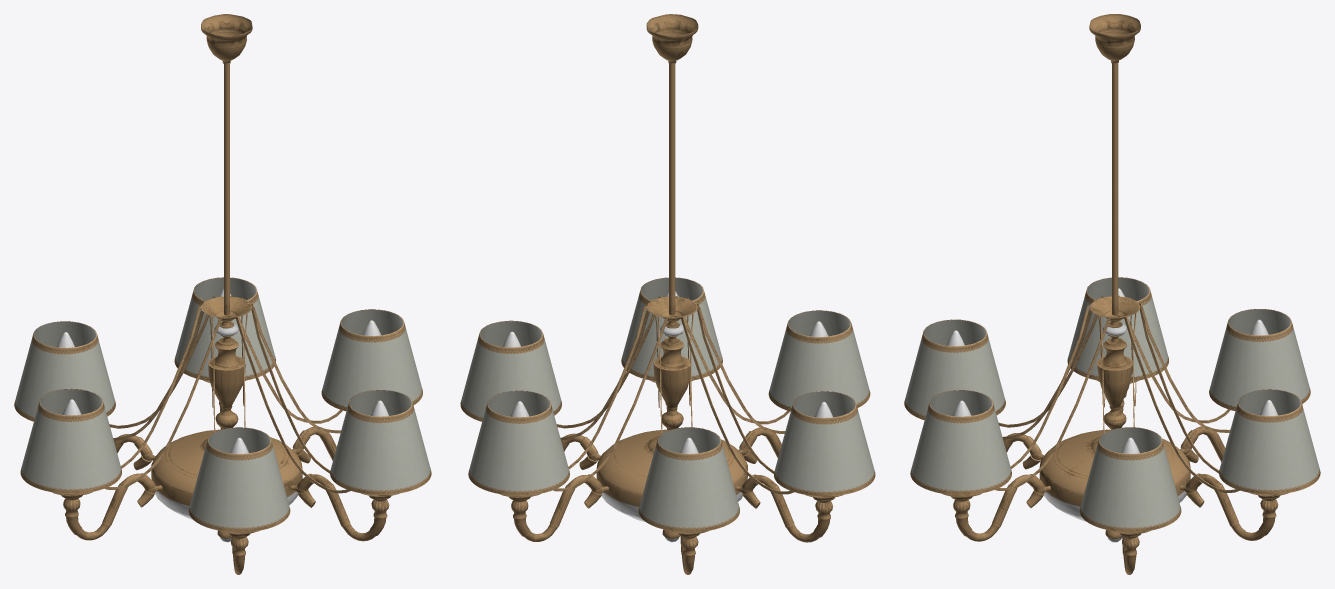
The model's file is Chandelier_02.glb.
3 renders of one model, left to right at view 1: azimuth 30°, elevation 25°; view 2: azimuth 150°, elevation 25°; view 3: azimuth 270°, elevation 25°, orthographic.
Parts seen in each view (by area): view 1: Chandelier_02; view 2: Chandelier_02; view 3: Chandelier_02.
Part boxes in pixels (box(x1,y1,x2,y2)): Chandelier_02: box(14, 14, 431, 574); Chandelier_02: box(460, 14, 875, 574); Chandelier_02: box(904, 14, 1320, 574).
Size of the model in its own units: 0.679 by 0.8481 by 0.619.
2 materials, 1 textured.
